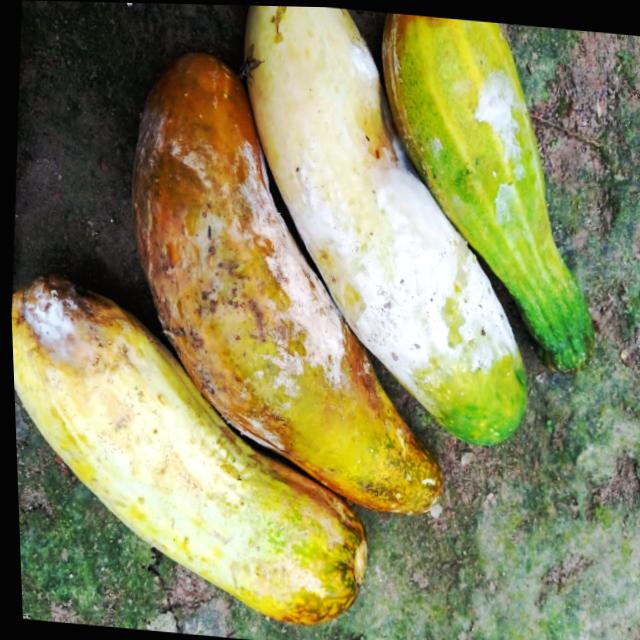Pythium-Fruit-Rot: (100, 100, 381, 463), (270, 35, 536, 394), (8, 270, 131, 388), (465, 67, 531, 218)
